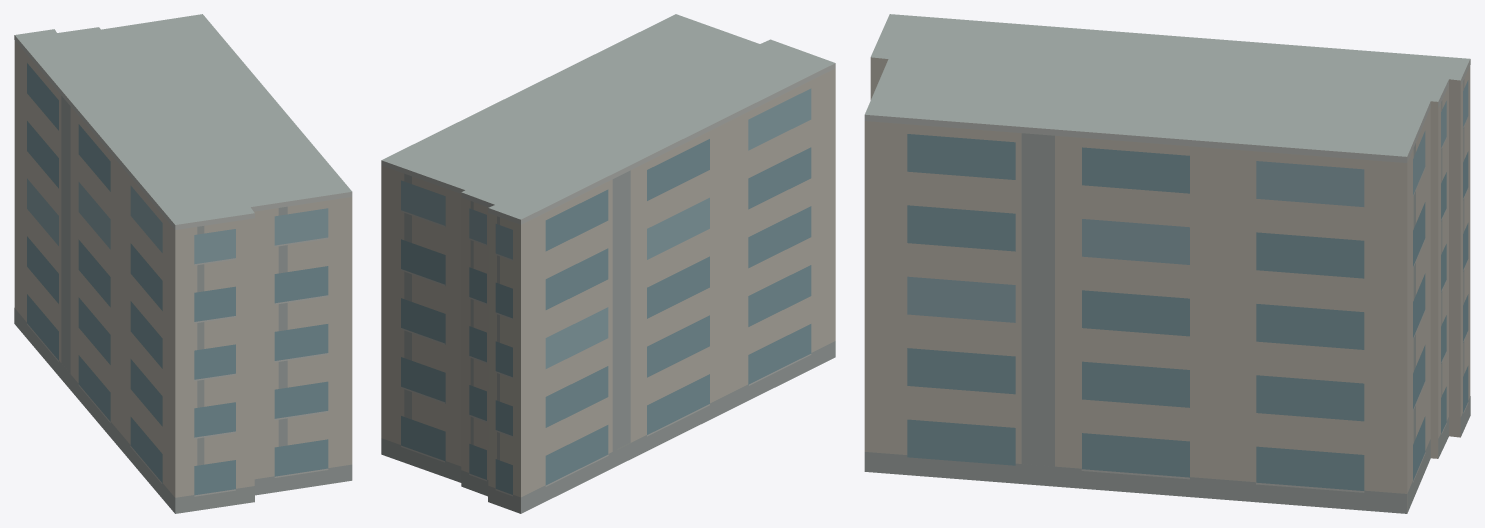
The model's file is survey-upis-32986762.glb.
3 views of the same model, side by side, from view 1: azimuth 30°, elevation 25°; view 2: azimuth 150°, elevation 25°; view 3: azimuth 270°, elevation 25° (orthographic). The views are drawn at different scales.
Parts seen in each view (by area): view 1: survey-upis-32986762.tmp; view 2: survey-upis-32986762.tmp; view 3: survey-upis-32986762.tmp.
Part boxes in pixels (bbox=[...]): survey-upis-32986762.tmp: bbox=[14, 14, 352, 513]; survey-upis-32986762.tmp: bbox=[381, 14, 835, 513]; survey-upis-32986762.tmp: bbox=[864, 14, 1470, 513].
Size of the model in its own units: 11.94 by 13.9 by 21.38.
